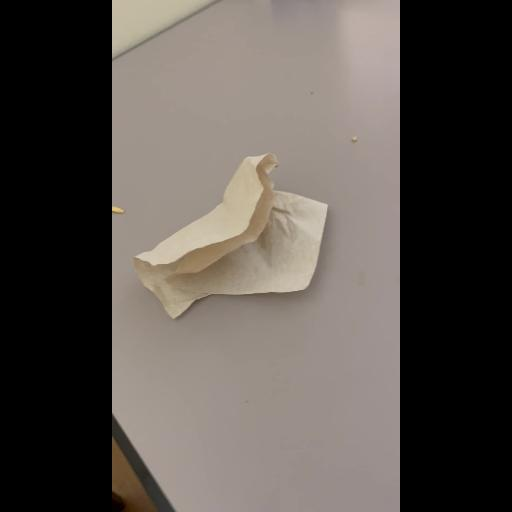napkin: (112, 142, 350, 326)
